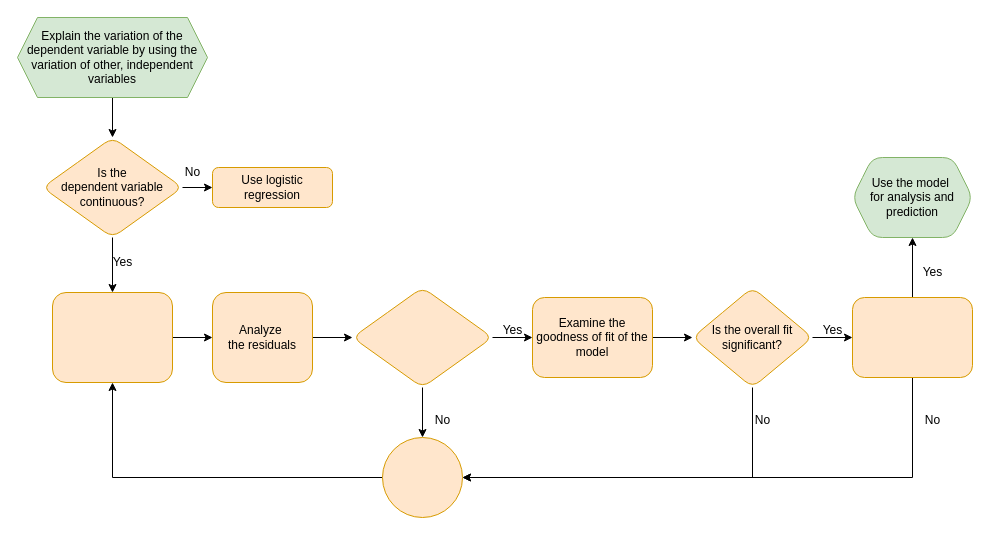
This 990x535 diagram has some shape labels left out. The shapes that lost their labels are listed below. From the top down, each one's box as (x1, y1, x2, y2) in pixels, then its label:
(52, 292, 172, 382): Estimate the regression model
(352, 286, 492, 388): Are the assumptions of regression satisfied?
(852, 296, 972, 378): Is the model the best of possible models?
(382, 436, 462, 518): Adjust the model
